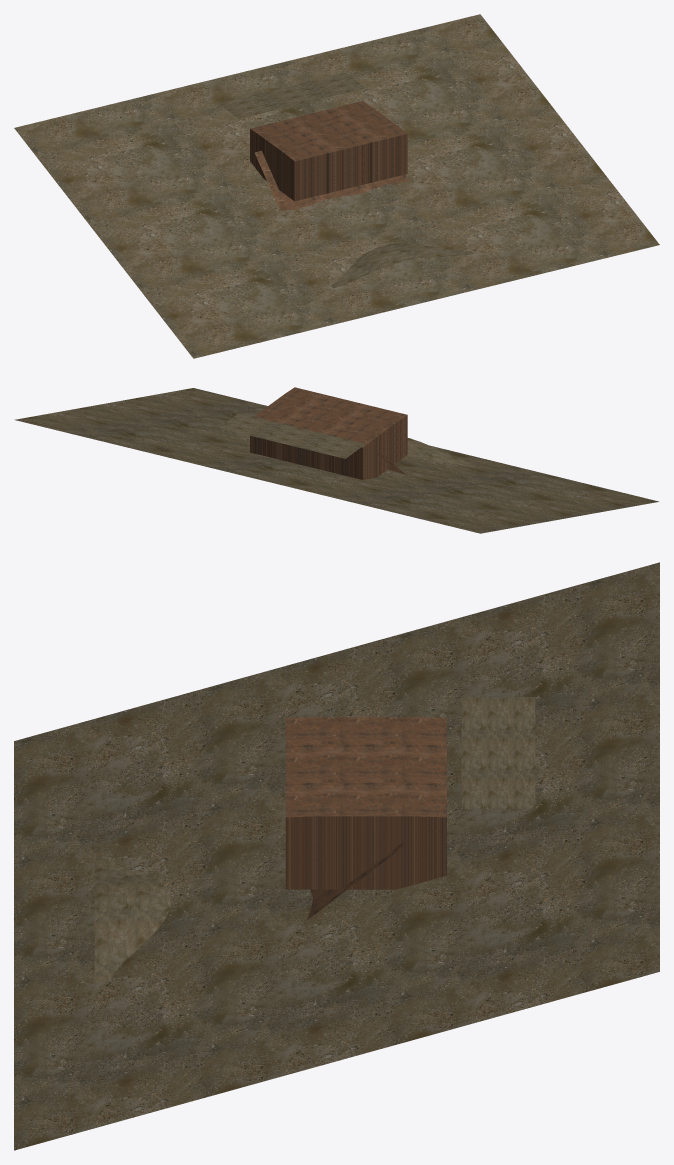
Rendered from mass-movement.glb.
3 renders of one model, top to bottom at view 1: azimuth 30°, elevation 25°; view 2: azimuth 150°, elevation 25°; view 3: azimuth 270°, elevation 25°, orthographic. The views are drawn at different scales.
Parts seen in each view (by area): view 1: Mass_Slope, Mass_Block, Mass_Crown, Mass_Toe, Mass_Shear; view 2: Mass_Slope, Mass_Block, Mass_Crown, Mass_Toe; view 3: Mass_Slope, Mass_Block, Mass_Crown, Mass_Toe, Mass_Shear.
Part boxes in pixels (<box>): Mass_Slope: <box>14,14,659,358</box>; Mass_Block: <box>250,101,407,201</box>; Mass_Crown: <box>219,73,365,118</box>; Mass_Toe: <box>330,243,474,288</box>; Mass_Shear: <box>255,150,408,210</box>; Mass_Slope: <box>14,388,658,533</box>; Mass_Block: <box>250,387,407,479</box>; Mass_Crown: <box>218,413,365,458</box>; Mass_Toe: <box>405,438,474,466</box>; Mass_Slope: <box>14,562,659,1150</box>; Mass_Block: <box>285,717,446,889</box>; Mass_Crown: <box>461,697,535,808</box>; Mass_Toe: <box>94,858,170,982</box>; Mass_Shear: <box>307,841,404,920</box>.
Bounding box in the file's own units: 6.6 × 1.45 × 4.4.
5 materials, 5 textured.
